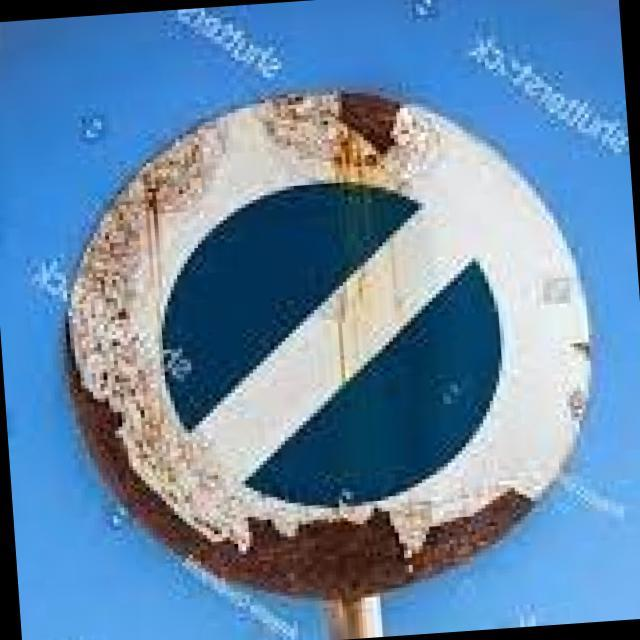obstructed_road_sign: (67, 94, 589, 607)
